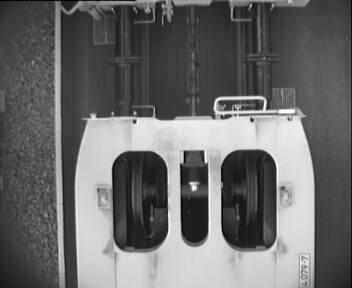twist_lock_2: (97, 141, 285, 260)
